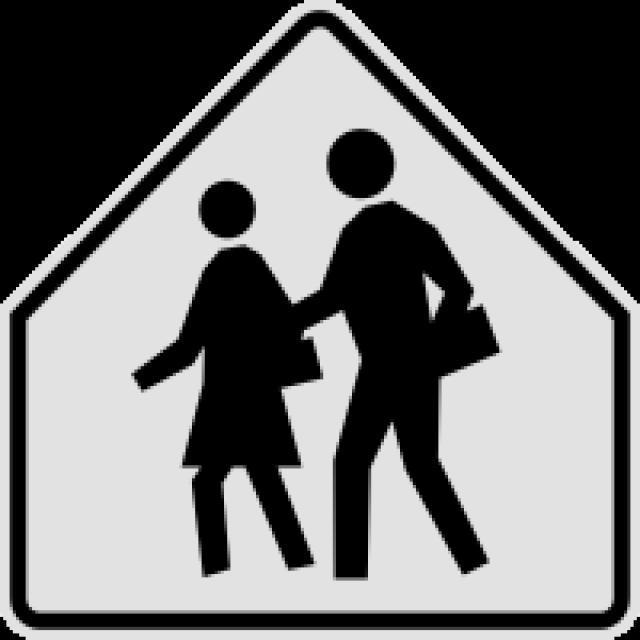school ahead: (25, 31, 612, 611)
